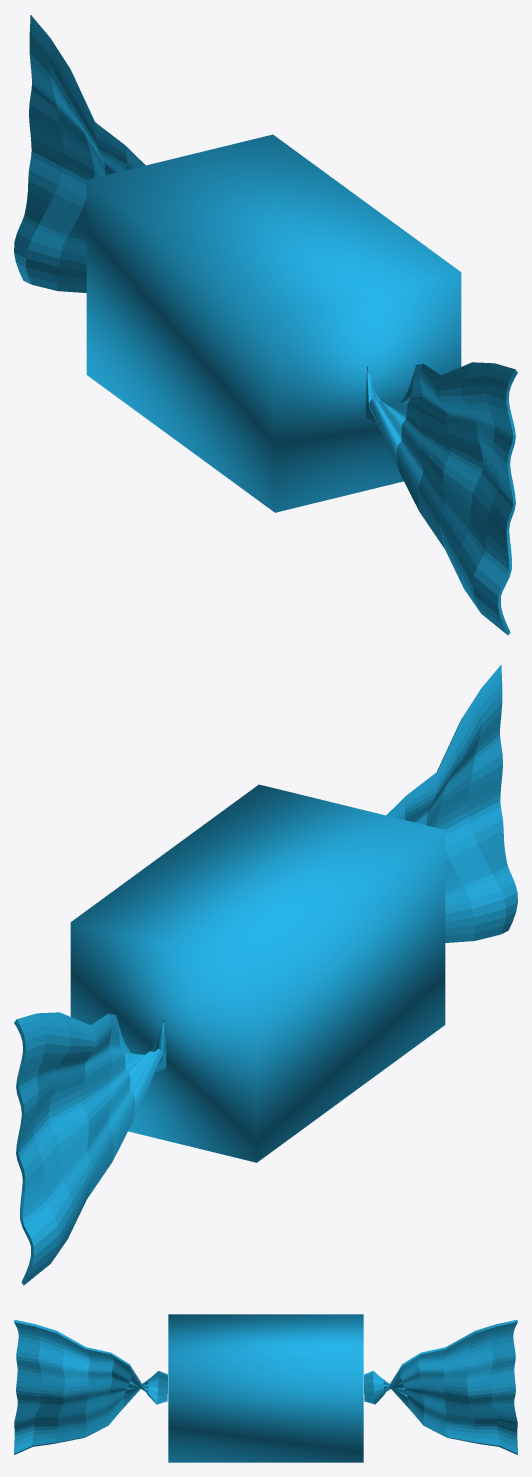
File: bonbon2.glb
3 views of the same model, one above another, from view 1: azimuth 30°, elevation 25°; view 2: azimuth 150°, elevation 25°; view 3: azimuth 270°, elevation 25° (orthographic). The views are drawn at different scales.
Parts seen in each view (by area): view 1: Cube, Plan; view 2: Cube, Plan; view 3: Cube, Plan.
Boxes of the visible parts, <box> form: Cube: <box>86,134,461,512</box>; Plan: <box>14,15,517,635</box>; Cube: <box>70,784,445,1162</box>; Plan: <box>14,665,517,1285</box>; Cube: <box>168,1314,363,1462</box>; Plan: <box>14,1319,517,1454</box>.
Bounding box in the file's own units: 0.8241 × 1.12 × 3.72.
